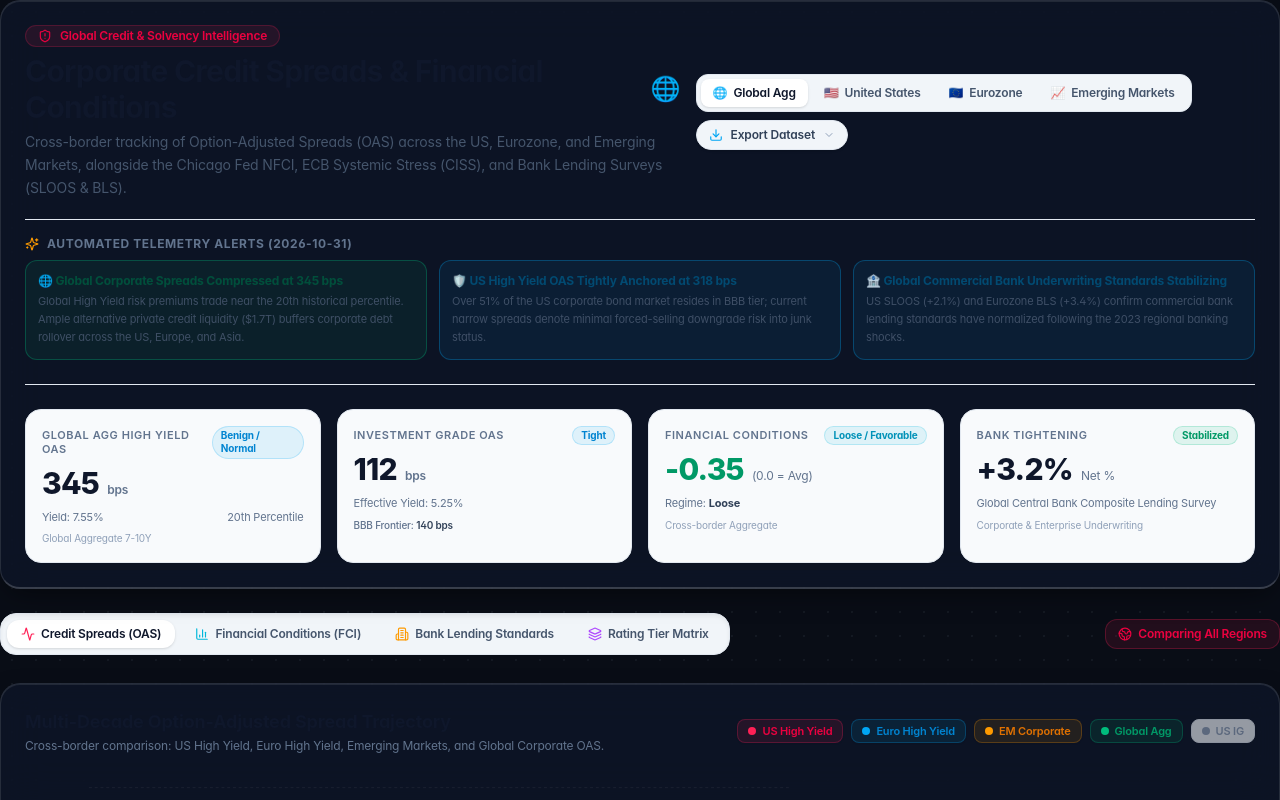
it: CreditMarketRadar Component › switches to Rating Tier Matrix view and renders regional ratings and fallen angel note
Click the button "Rating Tier Matrix" at (648, 634), box [574, 620, 723, 648]
(page scrolled)
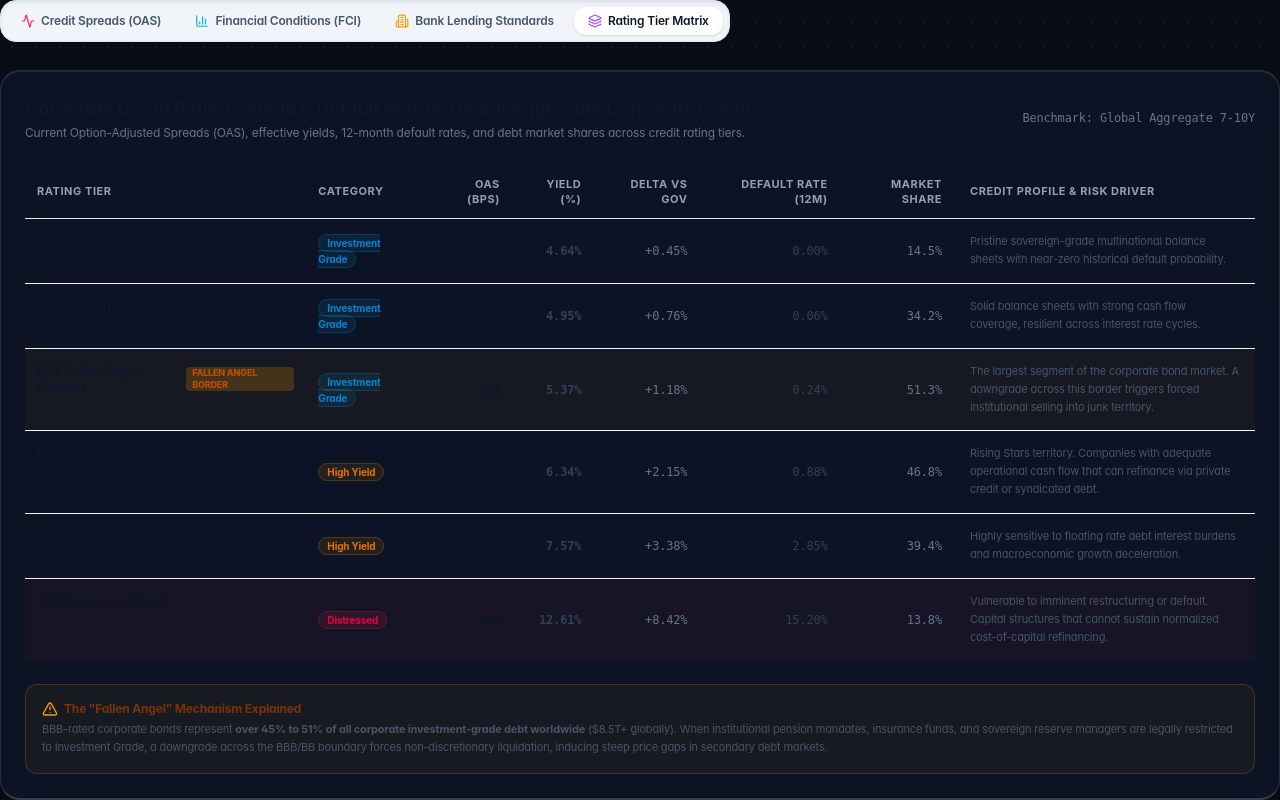
Expected: the text "The \"Fallen Angel\" Mechanism Explained" is shown, [64, 702, 301, 718]
